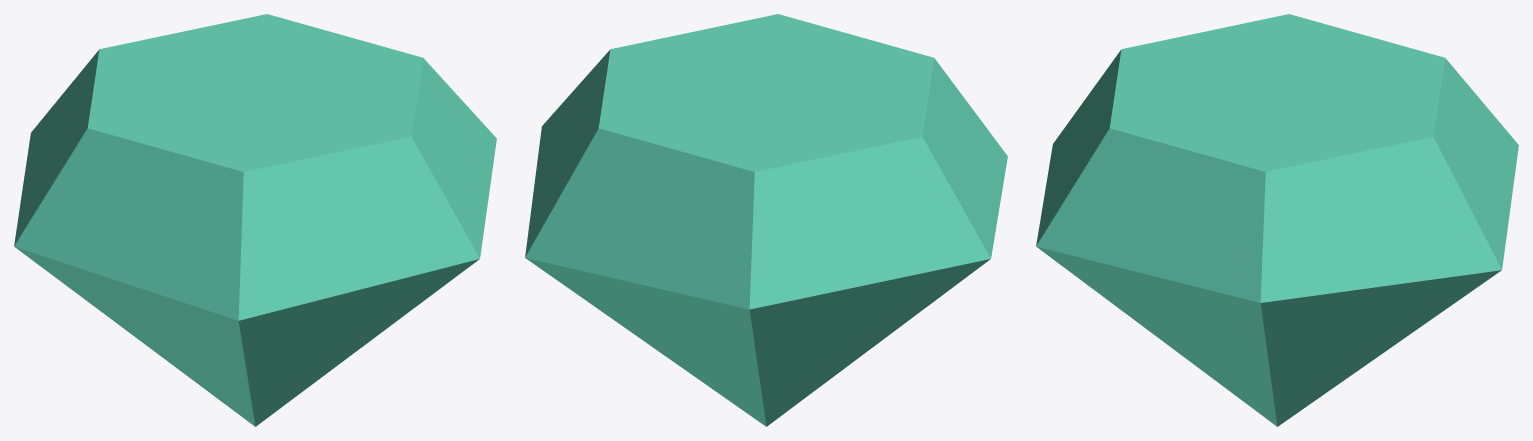
Rendered from Crystal5.glb.
3 views of the same model, side by side, from view 1: azimuth 30°, elevation 25°; view 2: azimuth 150°, elevation 25°; view 3: azimuth 270°, elevation 25° (orthographic).
Parts seen in each view (by area): view 1: Crystal5; view 2: Crystal5; view 3: Crystal5.
Boxes of the visible parts, box(x1,y1,x2,y2) form: Crystal5: box(14, 14, 496, 426); Crystal5: box(525, 14, 1007, 426); Crystal5: box(1036, 14, 1518, 426).
Size of the model in its own units: 0.1628 by 0.1115 by 0.1461.
